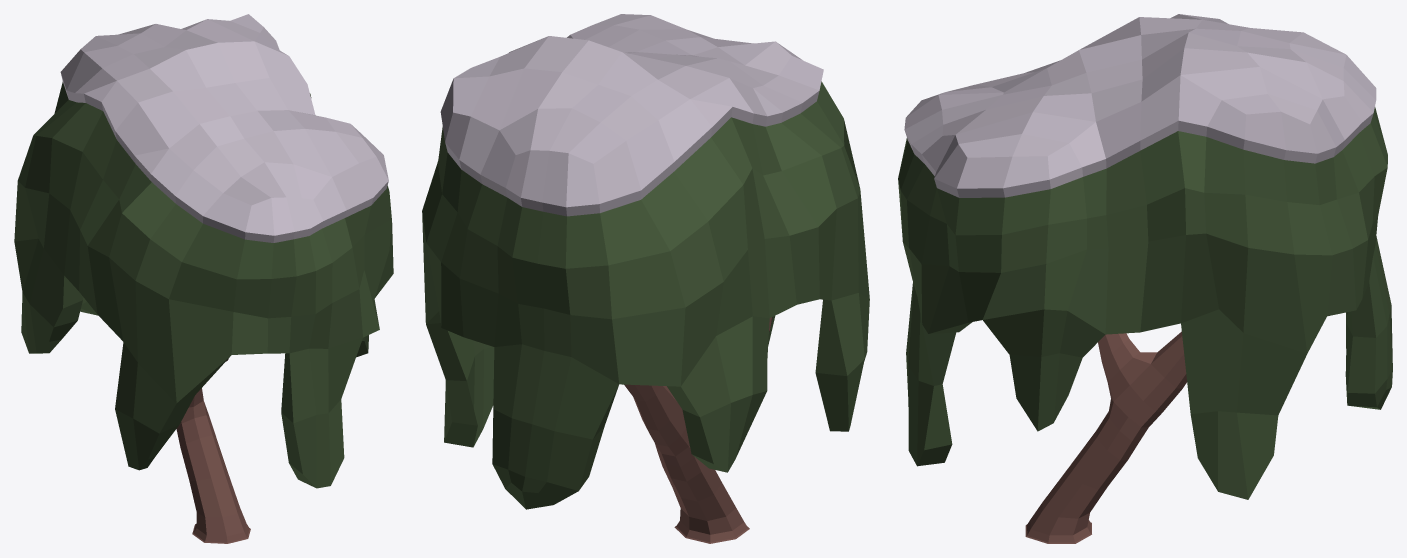
The model's file is willow_snow_4.glb.
3 renders of one model, left to right at view 1: azimuth 30°, elevation 25°; view 2: azimuth 150°, elevation 25°; view 3: azimuth 270°, elevation 25°, orthographic. The views are drawn at different scales.
Parts seen in each view (by area): view 1: Willow_Snow_4; view 2: Willow_Snow_4; view 3: Willow_Snow_4.
Boxes of the visible parts, bbox=[...] form: Willow_Snow_4: bbox=[14, 14, 393, 543]; Willow_Snow_4: bbox=[422, 14, 869, 543]; Willow_Snow_4: bbox=[898, 14, 1392, 543].
Size of the model in its own units: 5.47 by 8.66 by 7.61.
